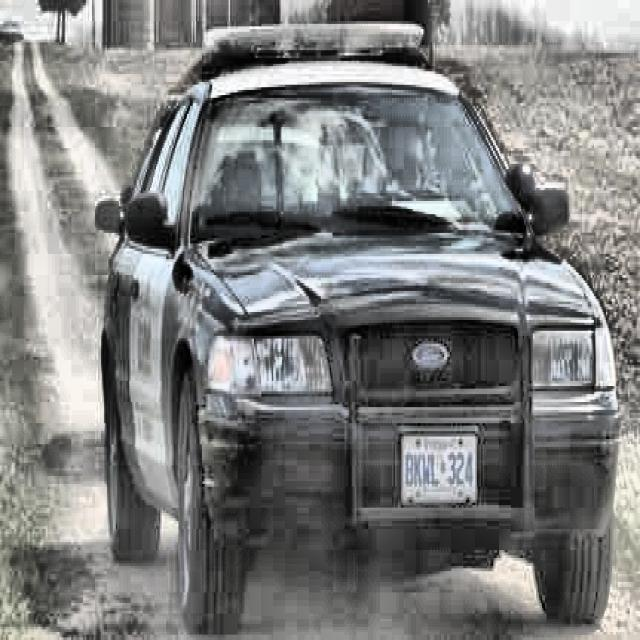license_plate: (401, 438, 478, 500)
